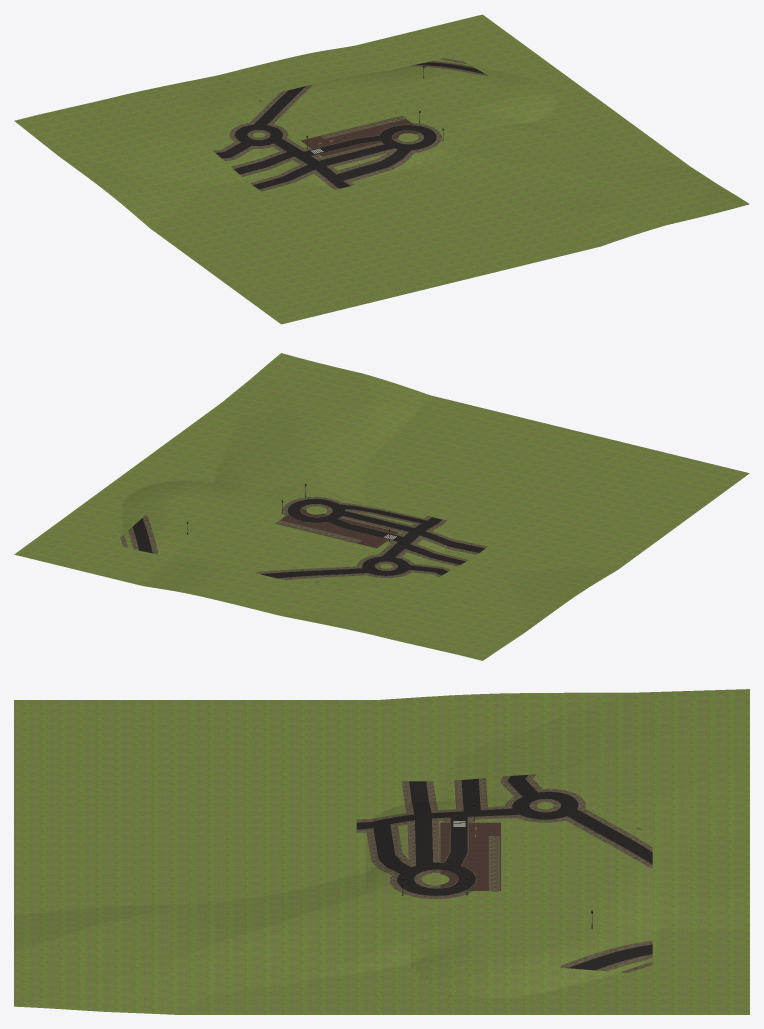
The model's file is Core_Site.glb.
3 views of the same model, one above another, from view 1: azimuth 30°, elevation 25°; view 2: azimuth 150°, elevation 25°; view 3: azimuth 270°, elevation 25° (orthographic). The views are drawn at different scales.
Parts seen in each view (by area): view 1: Terrain, Road, Walk, Curb, Plaza; view 2: Terrain, Road, Walk, Curb, Plaza; view 3: Terrain, Road, Walk, Plaza, Curb, Platform.
Part boxes in pixels (bbox=[...]): Terrain: bbox=[14, 14, 749, 324]; Road: bbox=[216, 62, 484, 189]; Walk: bbox=[213, 58, 488, 191]; Curb: bbox=[215, 61, 486, 189]; Plaza: bbox=[301, 116, 419, 156]; Terrain: bbox=[14, 353, 749, 660]; Road: bbox=[132, 499, 484, 578]; Walk: bbox=[120, 496, 487, 582]; Curb: bbox=[132, 498, 485, 578]; Plaza: bbox=[276, 508, 398, 548]; Terrain: bbox=[14, 689, 749, 1014]; Road: bbox=[356, 775, 652, 970]; Walk: bbox=[356, 774, 652, 972]; Plaza: bbox=[440, 822, 500, 890]; Curb: bbox=[356, 774, 652, 970]; Platform: bbox=[488, 836, 499, 891].
Bounding box in the file's own units: 209 × 8.42 × 206.
Materials: 10 (7 with a texture image).
